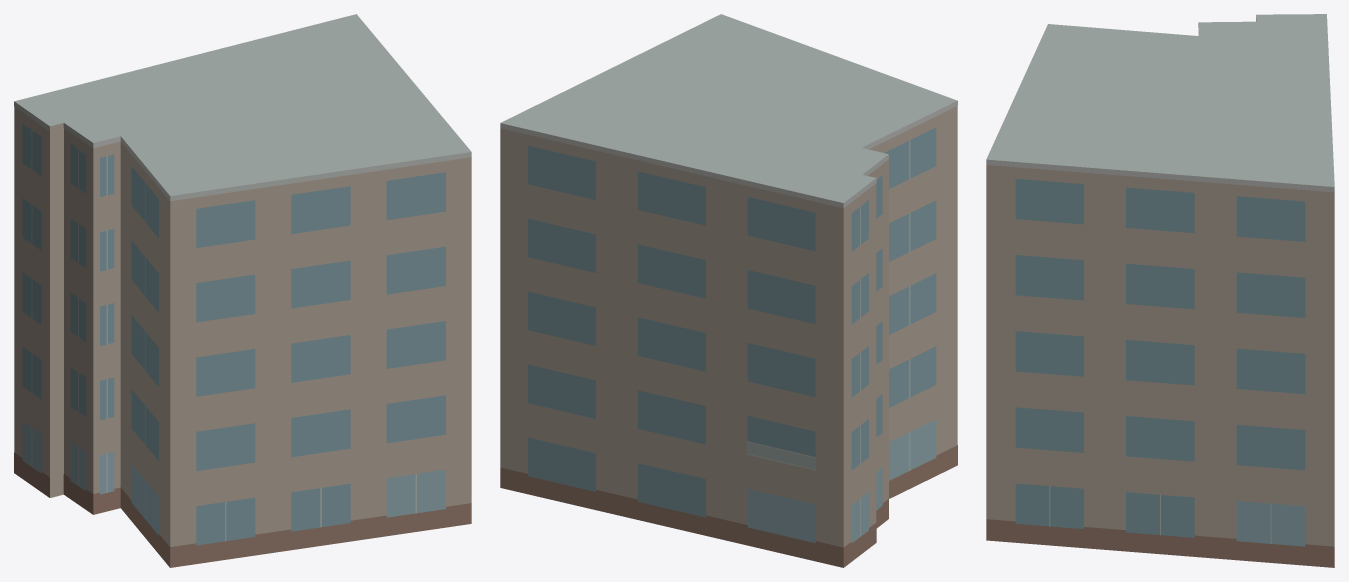
Rendered from survey-upis-32753827.glb.
3 renders of one model, left to right at view 1: azimuth 30°, elevation 25°; view 2: azimuth 150°, elevation 25°; view 3: azimuth 270°, elevation 25°, orthographic. The views are drawn at different scales.
Visible parts, largest first — view 1: survey-upis-32753827.tmp; view 2: survey-upis-32753827.tmp; view 3: survey-upis-32753827.tmp.
Part boxes in pixels (x1,y1,x2,y2): survey-upis-32753827.tmp: (14,14,471,567); survey-upis-32753827.tmp: (500,14,957,567); survey-upis-32753827.tmp: (986,14,1334,567).
Bounding box in the file's own units: 16.97 × 17.4 × 14.44.
